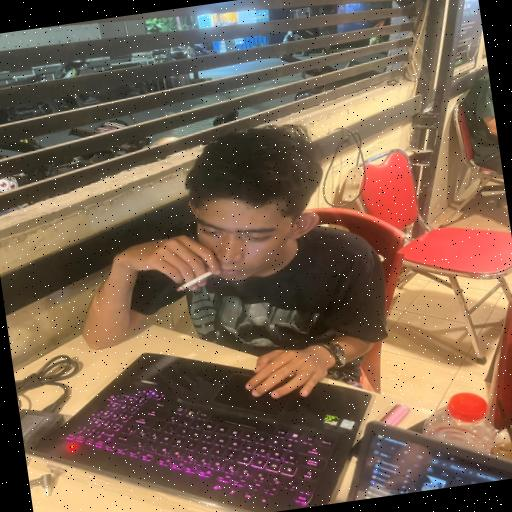dataset-deteksi-merokok: (140, 182, 250, 304)
